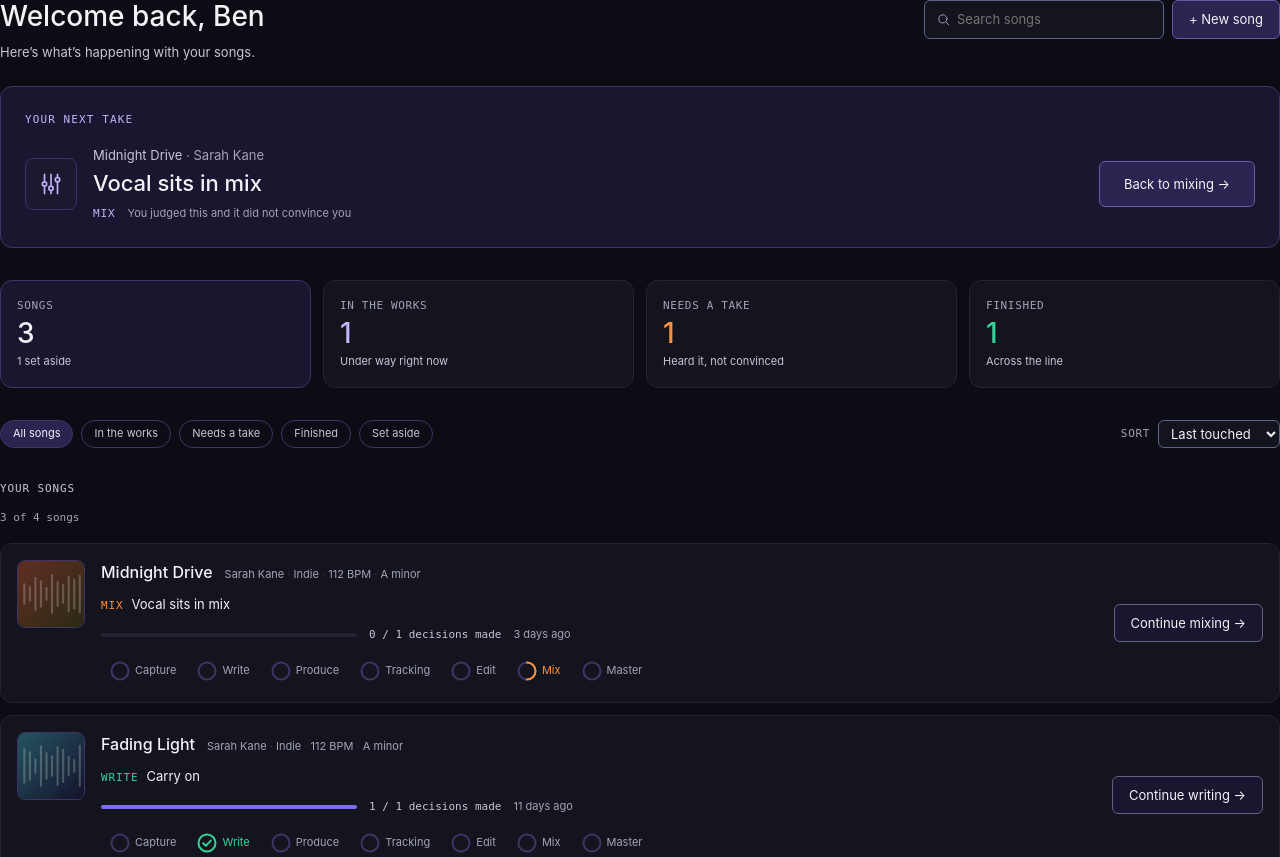
Test: adding a song › asks for a title and nothing else, then shows it without a reload
The image size is (1280, 857).
Expected: the heading "Welcome back, Ben" is shown, [0,0,265,34]
Click the button "+ New song".
click(1226, 19)  # box [1172,0,1279,39]
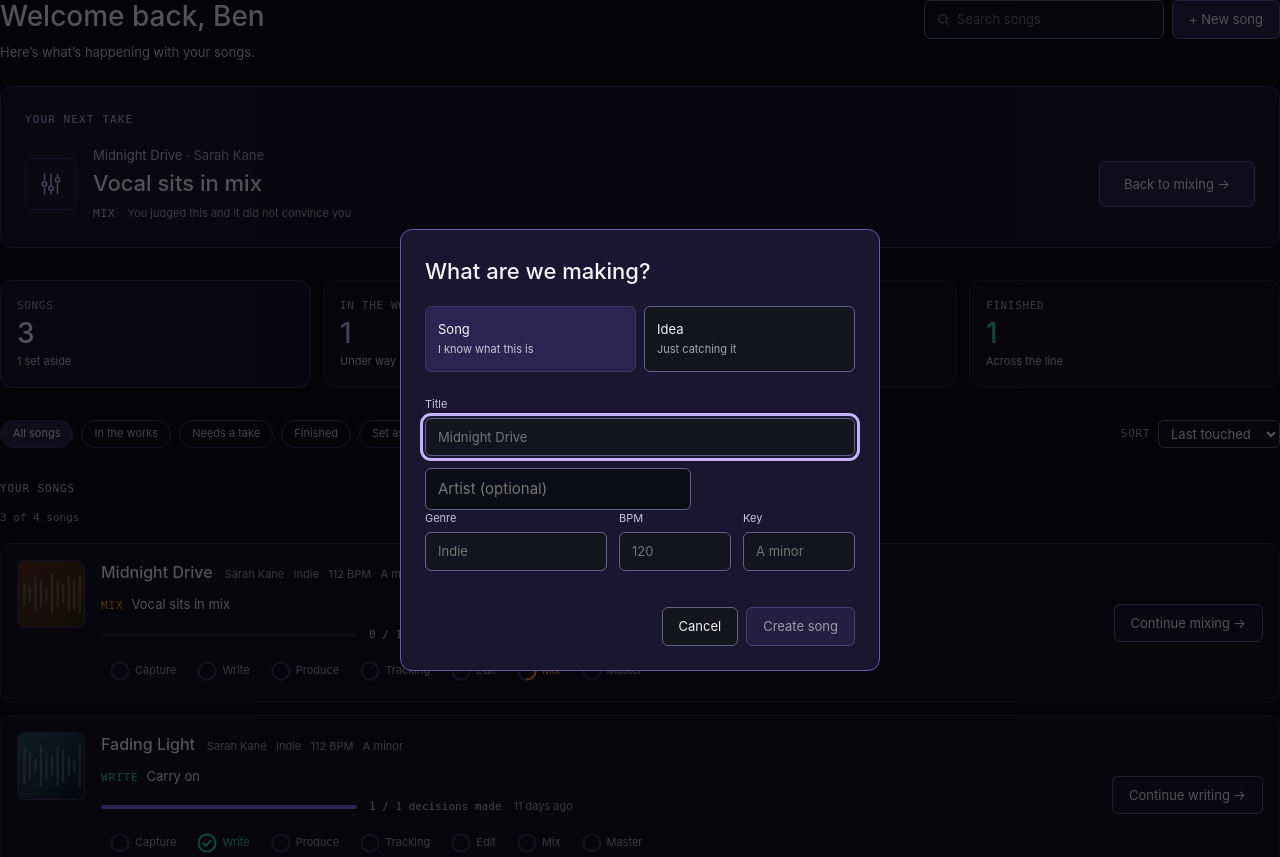
Expected: the button "Create song" is disabled, [746,607,855,646]
Type "New One" into the field labelled "Title".
click(640, 437); type("New One")  # box [425,418,855,456]
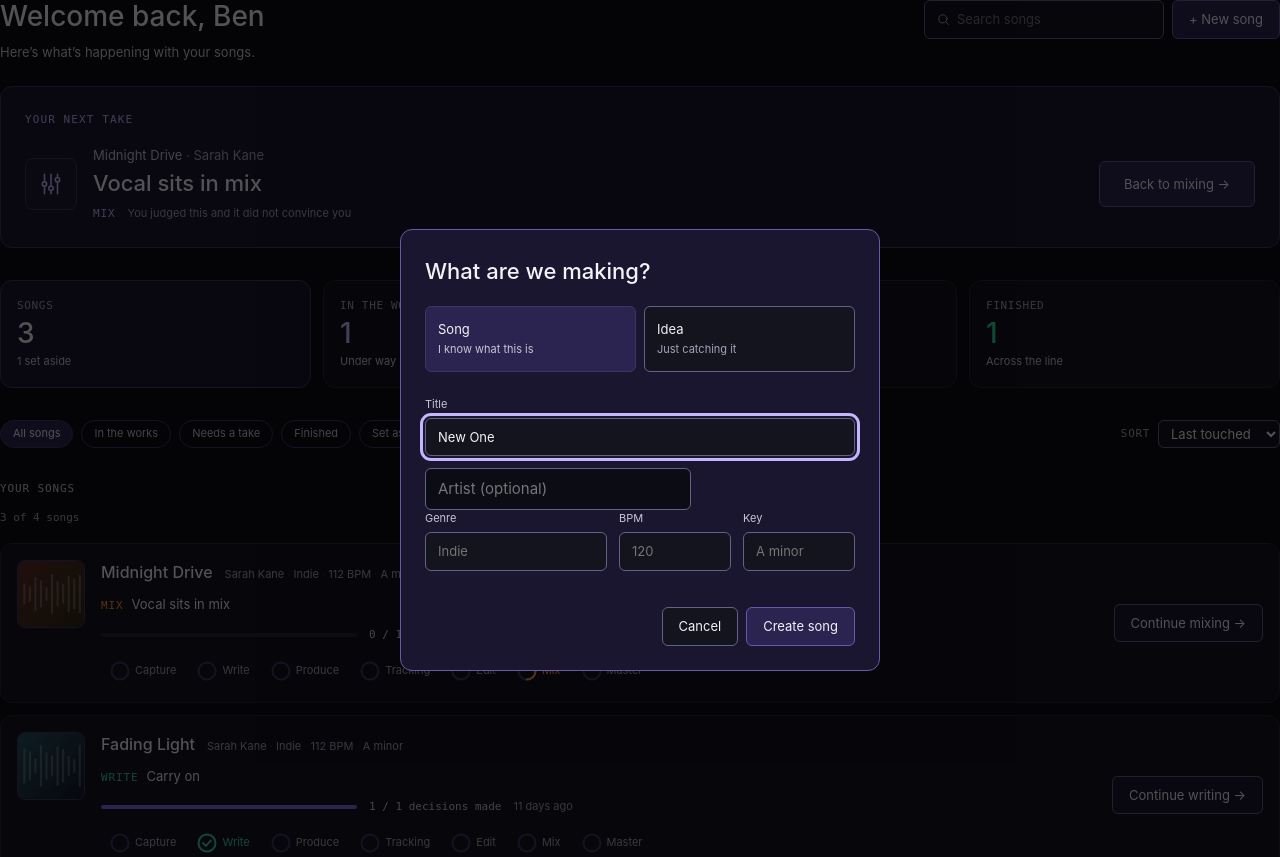
Type "128" into the number field labelled "BPM".
click(675, 551); type("128")  # box [619,532,731,571]
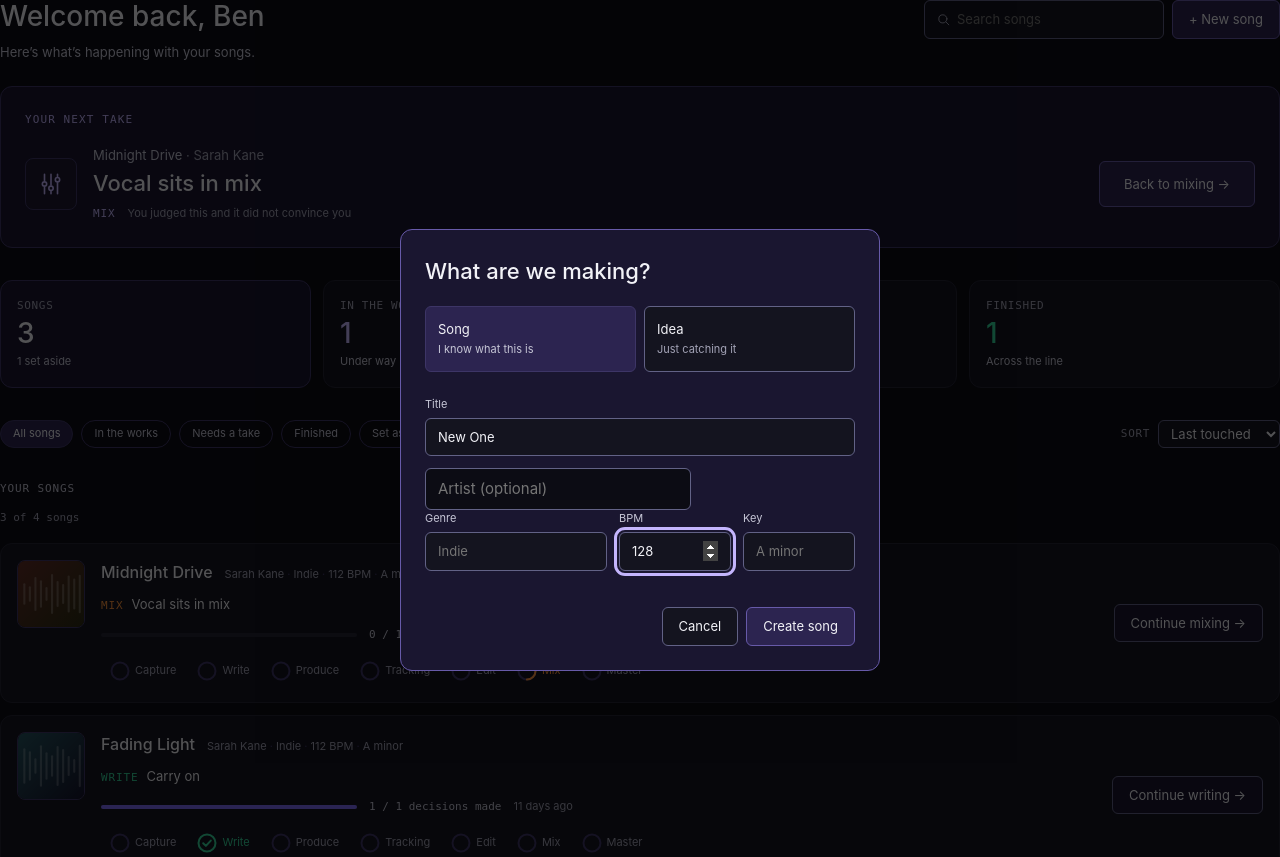
Click the button "Create song".
click(801, 626)  # box [746,607,855,646]
(page scrolled)
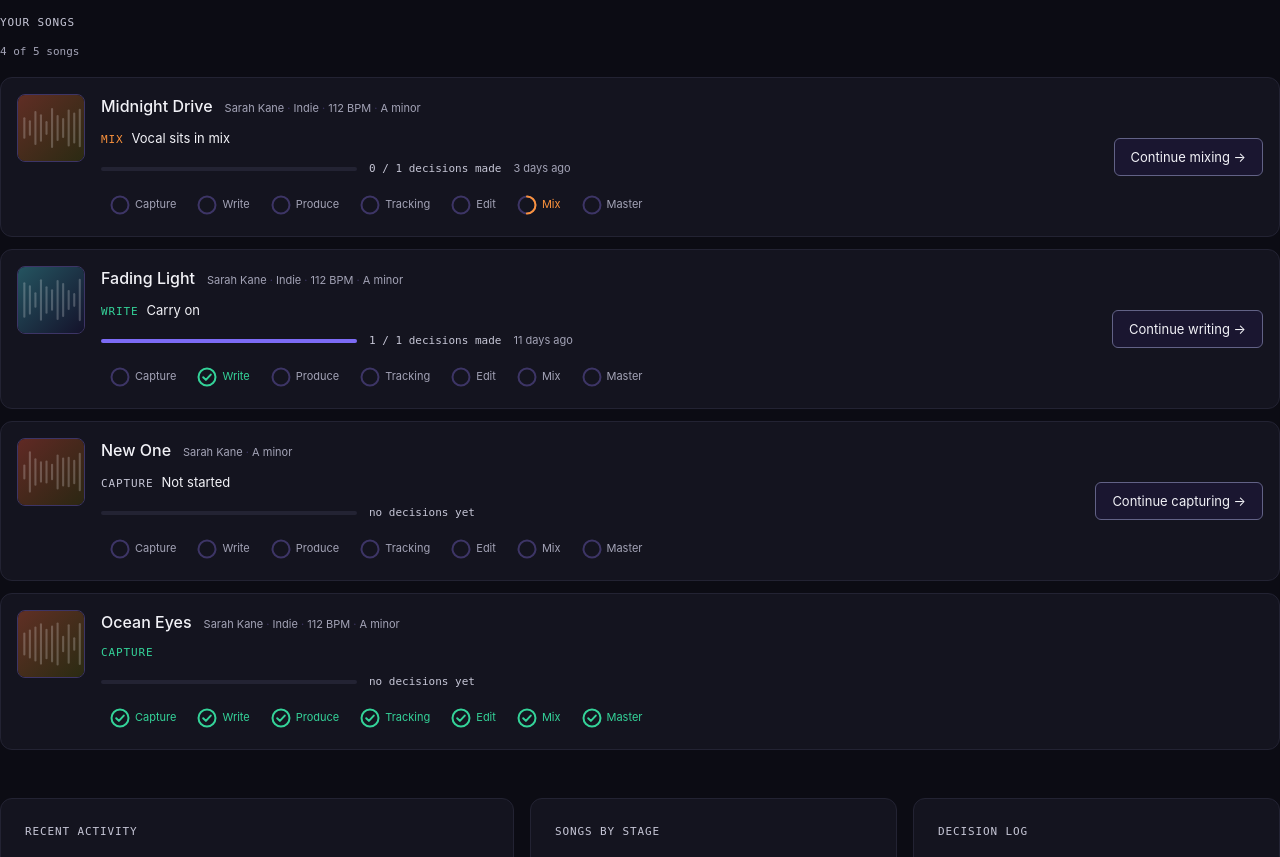
Expected: the heading "New One" is shown, [101,438,171,464]
